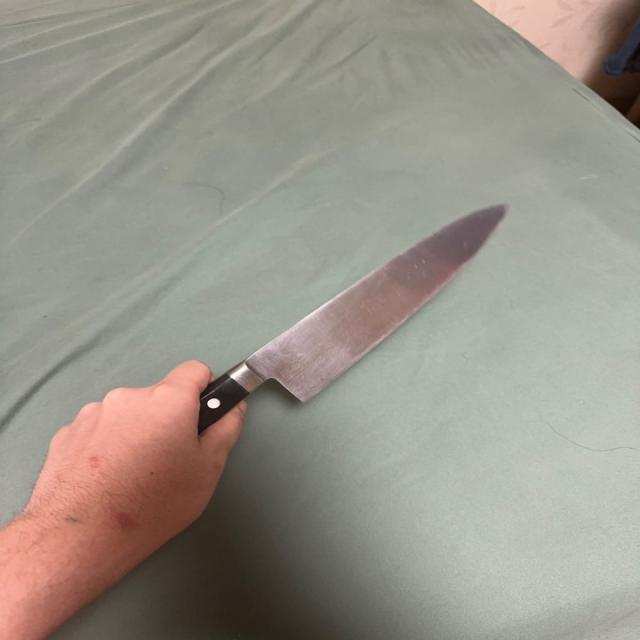knife: (198, 198, 522, 437)
